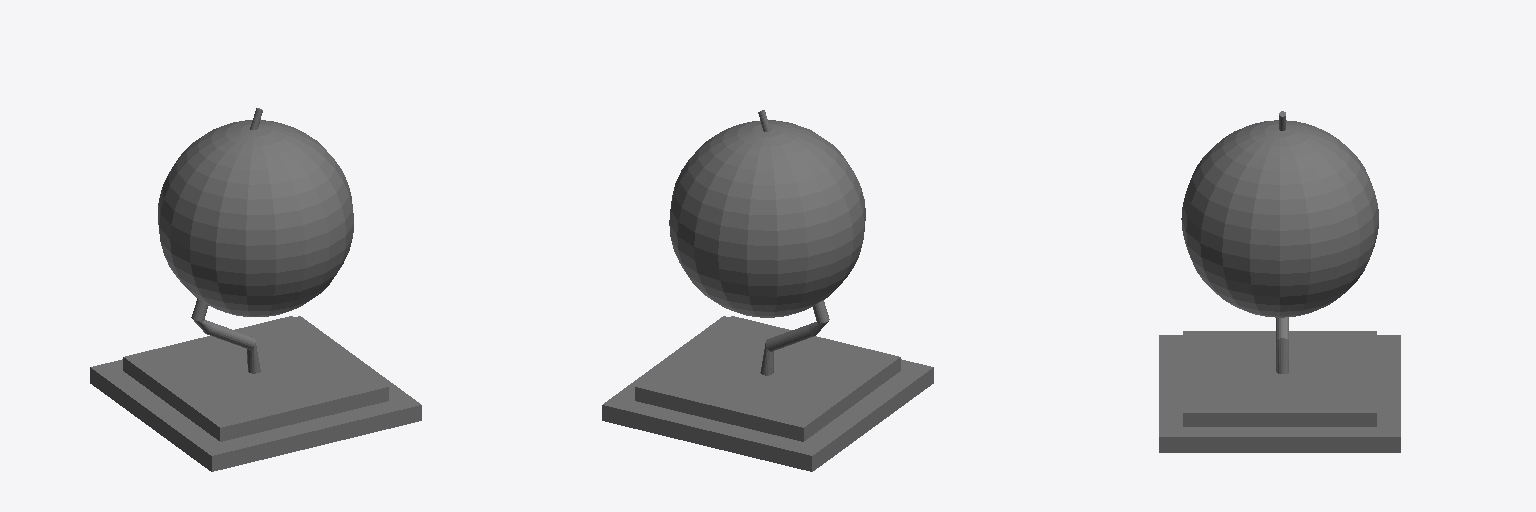
File: globe2.obj
3 views of the same model, side by side, from view 1: azimuth 30°, elevation 25°; view 2: azimuth 150°, elevation 25°; view 3: azimuth 270°, elevation 25° (orthographic).
Visible parts, largest first — view 1: group1_pasted__pCylinder4; view 2: group1_pasted__pCylinder4; view 3: group1_pasted__pCylinder4.
Boxes of the visible parts, x1=… form: group1_pasted__pCylinder4: x1=90, y1=108, x2=421, y2=471; group1_pasted__pCylinder4: x1=602, y1=110, x2=933, y2=471; group1_pasted__pCylinder4: x1=1159, y1=111, x2=1400, y2=452.
Bounding box in the file's own units: 1 × 1.33 × 1.